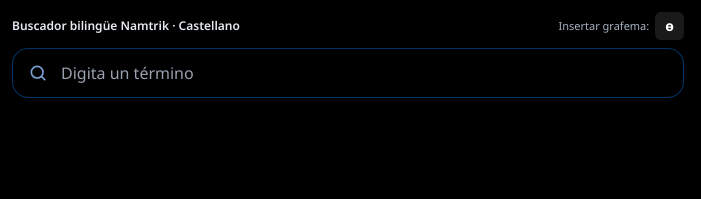
Test case: SearchBox › habilita búsqueda desde 1 carácter para monografemas Namtrik como "ú" o "u" (Enmienda 0.4.0)
The image size is (701, 199).
Step 1. Type "ú" into the dropdown → [348, 73], box x1=12 y1=48 x2=684 y2=98
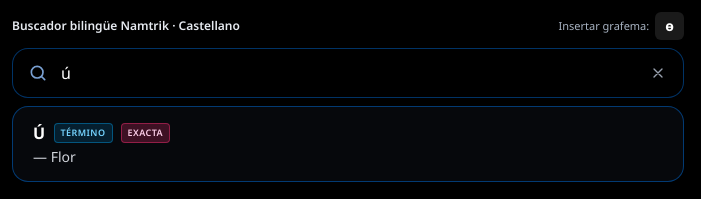
Expected: the dropdown is expanded, x1=12 y1=48 x2=684 y2=98
Expected: the text "Ú" is shown, x1=33 y1=121 x2=46 y2=145
Expected: the text "— Flor" is shown, x1=33 y1=147 x2=76 y2=167
